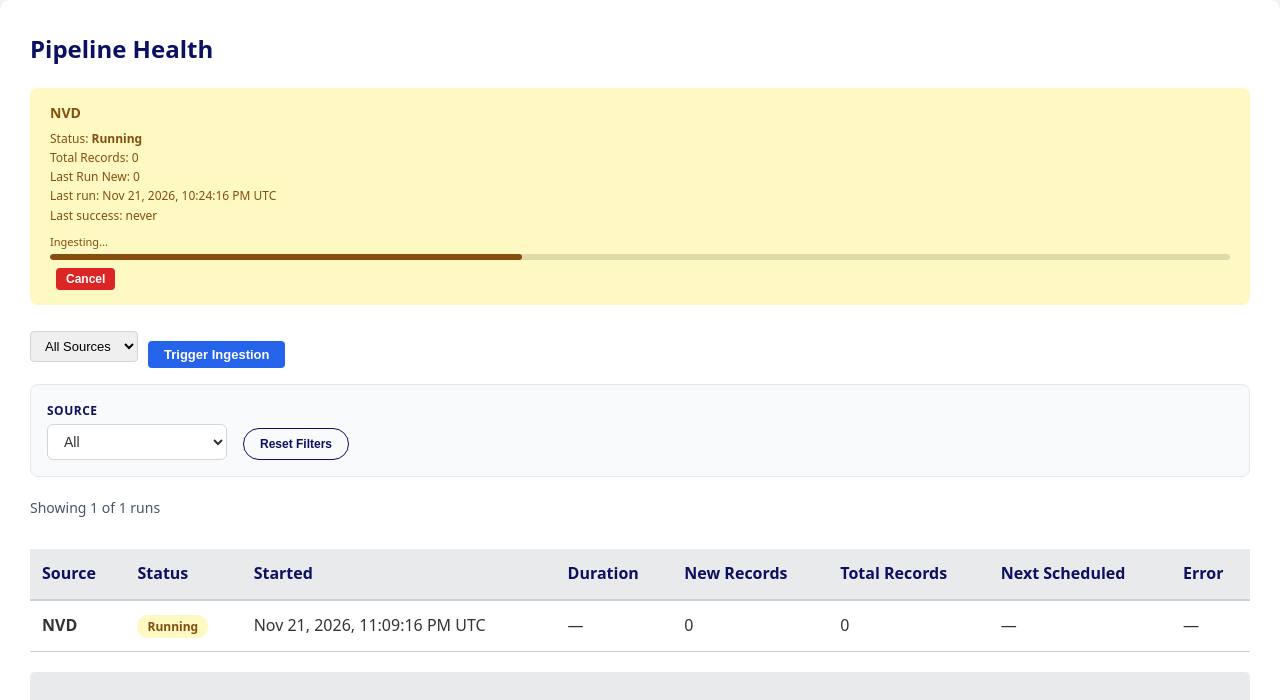
Test: PipelineHealthTab › cancel and retry actions › closes the dialog and shows the error when the cancel API rejects
What coordinates should you click on to do the following:
click the button "Cancel"
I would click on:
 (86, 279)
Its box is x1=56 y1=268 x2=115 y2=290.
Wait 50 ms
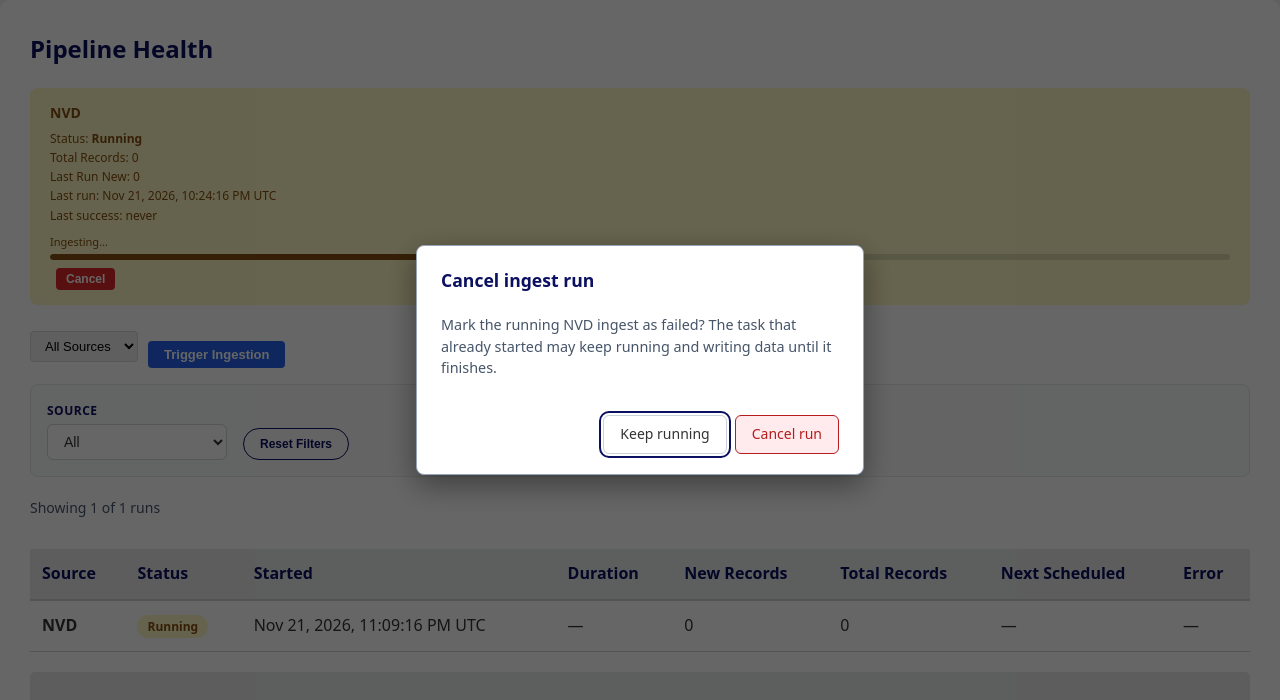
What coordinates should you click on to do the following:
click the button "Cancel run"
I would click on:
 (787, 434)
Its box is x1=735 y1=415 x2=839 y2=454.
Wait 50 ms
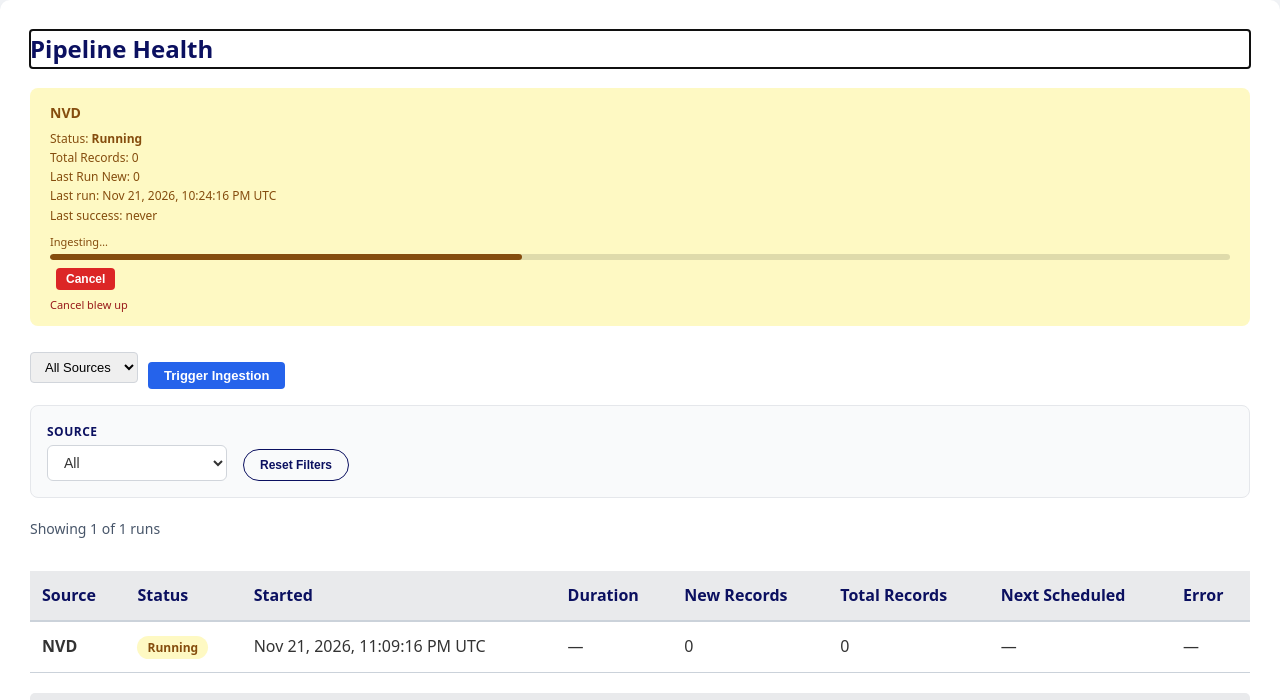
Now the dialog is gone
Now the text "Cancel blew up" is shown, box x1=50 y1=297 x2=128 y2=312
